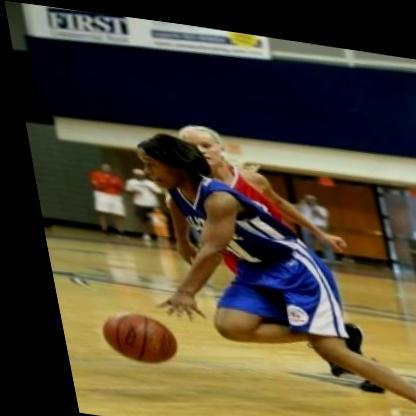basketball: (80, 301, 171, 371)
